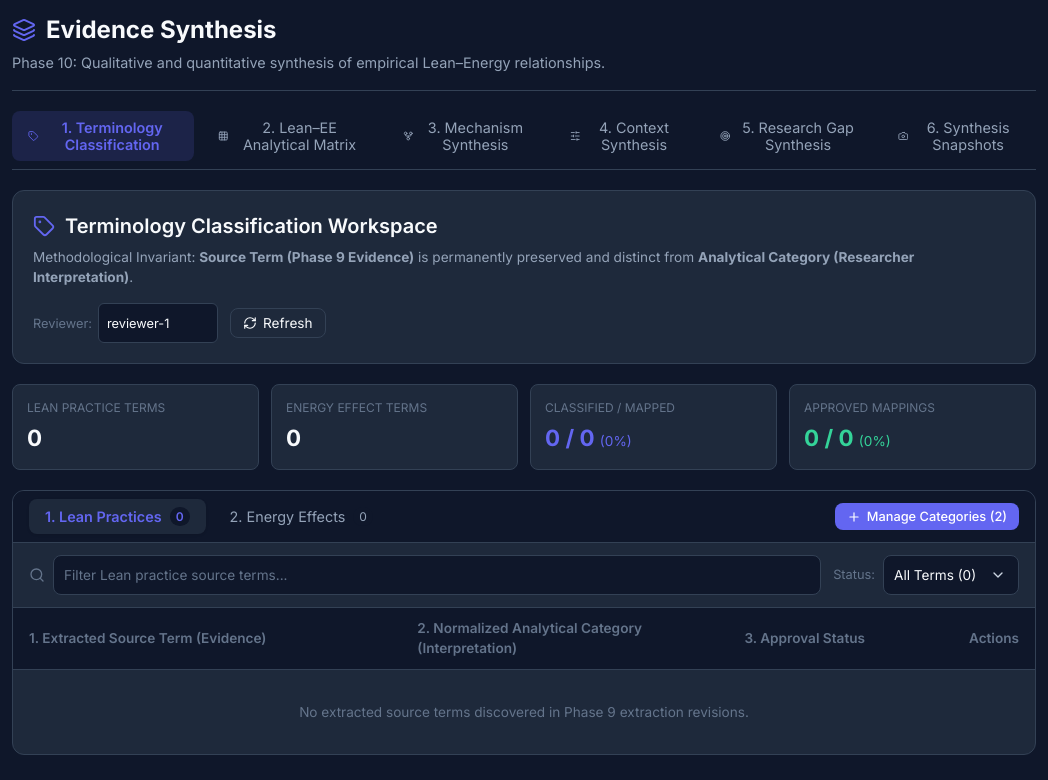
LeanEEMatrix Component › renders tab navigation in EvidenceSynthesisPage and switches between Classification and Matrix
expect the button with test id "synthesis-tab-classification" is shown: met, box [12,111,194,161]
// Switch to Matrix tab
Click the button with test id "synthesis-tab-matrix" at point(290, 136), box [202,111,379,161]
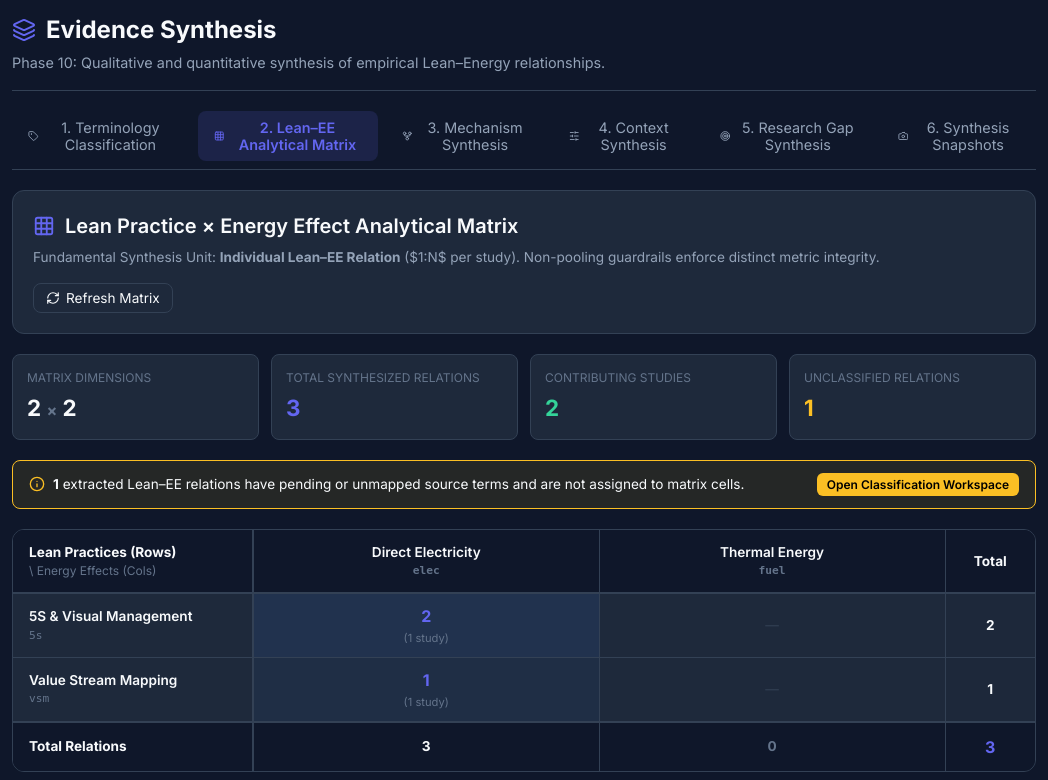
expect the heading "Lean Practice × Energy Effect Analytical Matrix" is shown: met, box [65,211,518,241]
